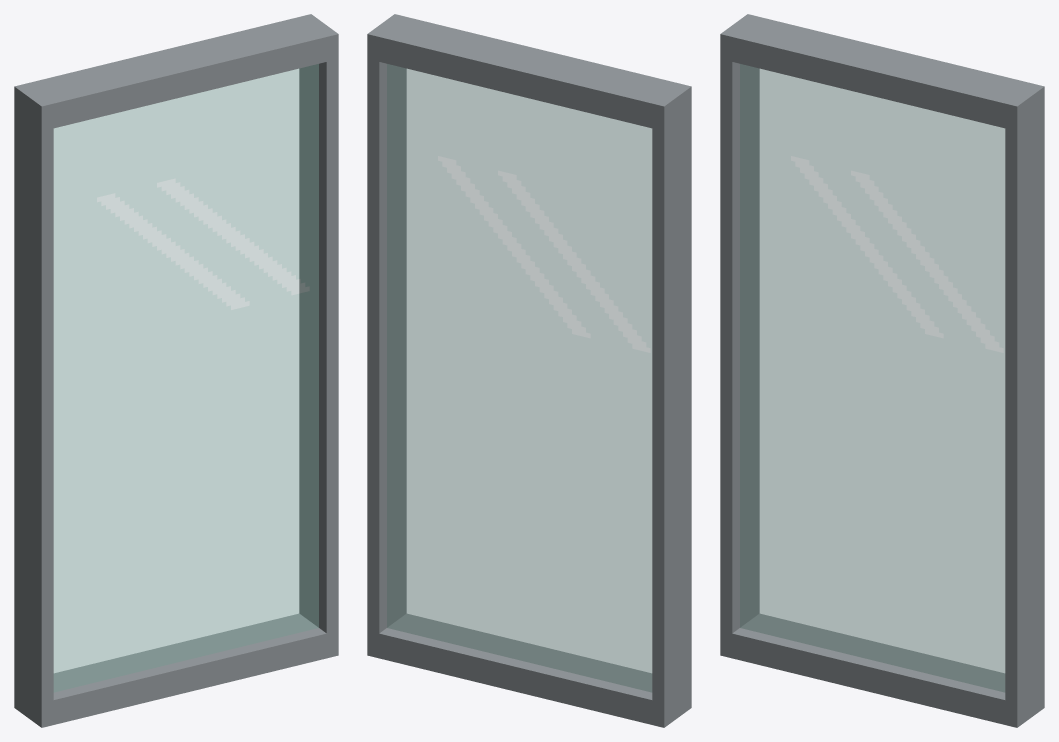
File: t_laminated_glass.glb
3 renders of one model, left to right at view 1: azimuth 30°, elevation 25°; view 2: azimuth 150°, elevation 25°; view 3: azimuth 330°, elevation 25°, orthographic.
Parts seen in each view (by area): view 1: block_pane, block_mullion-0.5, block_mullion0.46, block_head, block_sill; view 2: block_pane, block_mullion-0.5, block_mullion0.46, block_head, block_sill; view 3: block_pane, block_mullion0.46, block_mullion-0.5, block_head, block_sill.
Boxes of the visible parts, <box> form: block_pane: <box>53,64,318,692</box>; block_mullion-0.5: <box>14,111,53,702</box>; block_mullion0.46: <box>299,59,338,633</box>; block_head: <box>14,14,338,131</box>; block_sill: <box>14,613,338,727</box>; block_pane: <box>387,64,652,692</box>; block_mullion-0.5: <box>652,111,691,702</box>; block_mullion0.46: <box>367,59,406,633</box>; block_head: <box>367,14,691,131</box>; block_sill: <box>367,613,691,727</box>; block_pane: <box>740,64,1005,692</box>; block_mullion0.46: <box>1005,111,1044,702</box>; block_mullion-0.5: <box>720,59,759,633</box>; block_head: <box>720,14,1044,131</box>; block_sill: <box>720,613,1044,727</box>.
Size of the model in its own units: 1 by 2 by 0.16.
2 materials, 2 textured.
